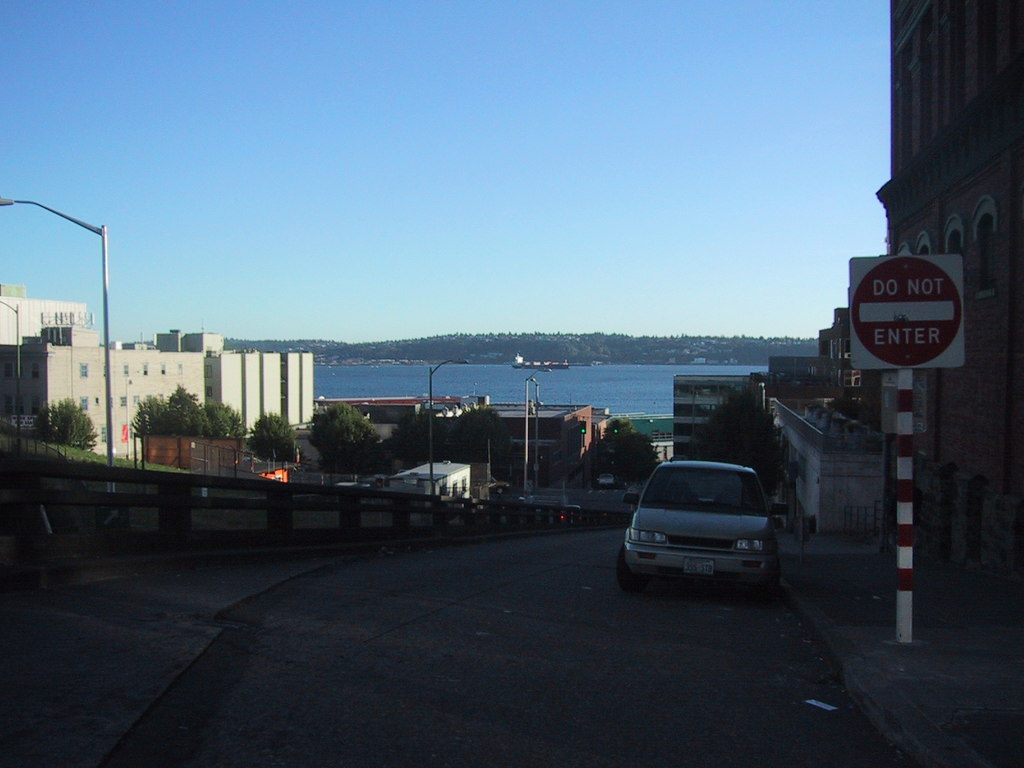cars: (618, 456, 782, 592), (596, 474, 612, 488)
